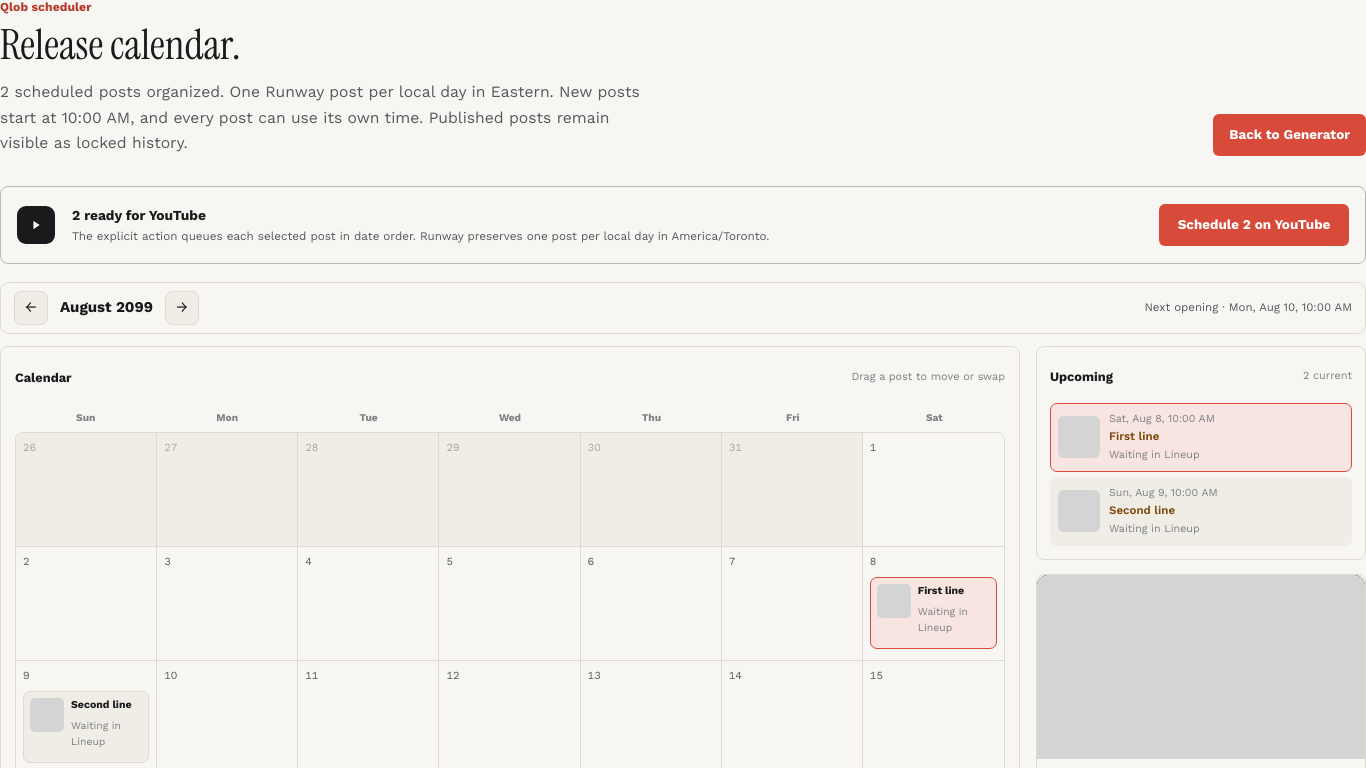
Scenario: LineupCalendar › never claims a malformed YouTube push succeeded and requires refresh
Click the button "Schedule 2 on YouTube". click: (1254, 225)
box: top-left (1159, 204), bottom-right (1349, 246)
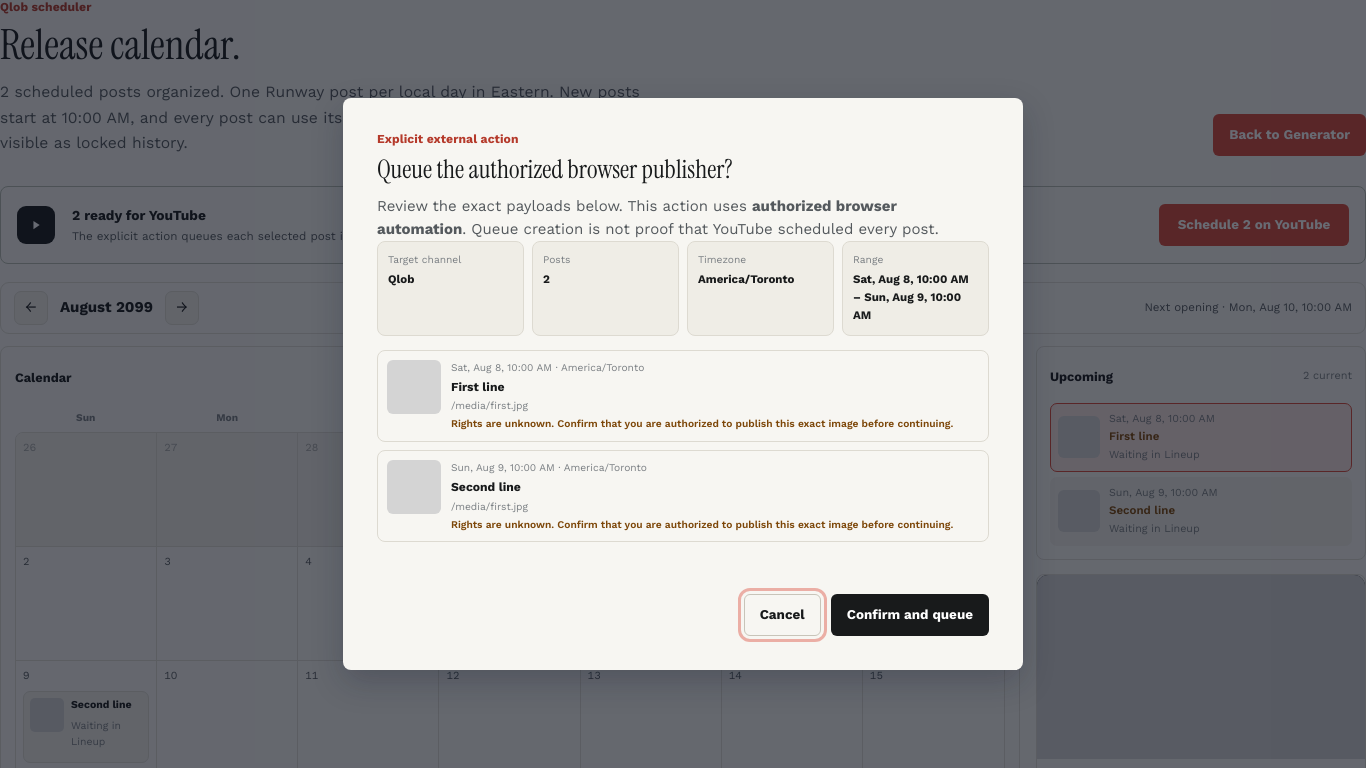
Click the button "Confirm and queue". click: (910, 616)
box: top-left (831, 594), bottom-right (989, 636)
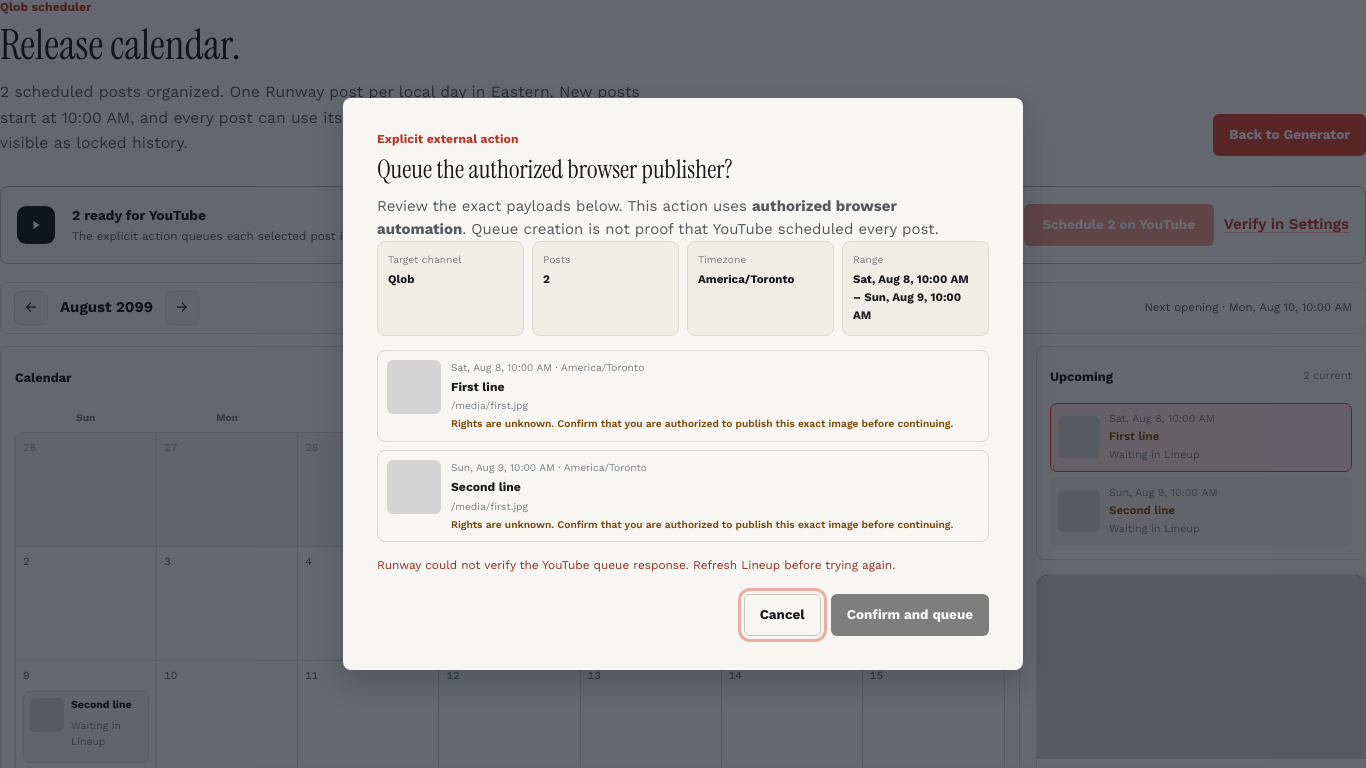
Expected: the message shows "could not verify the YouTube queue response", top-left (377, 558), bottom-right (895, 572)
Expected: the button "Schedule 2 on YouTube" is disabled, top-left (1024, 204), bottom-right (1214, 246)
